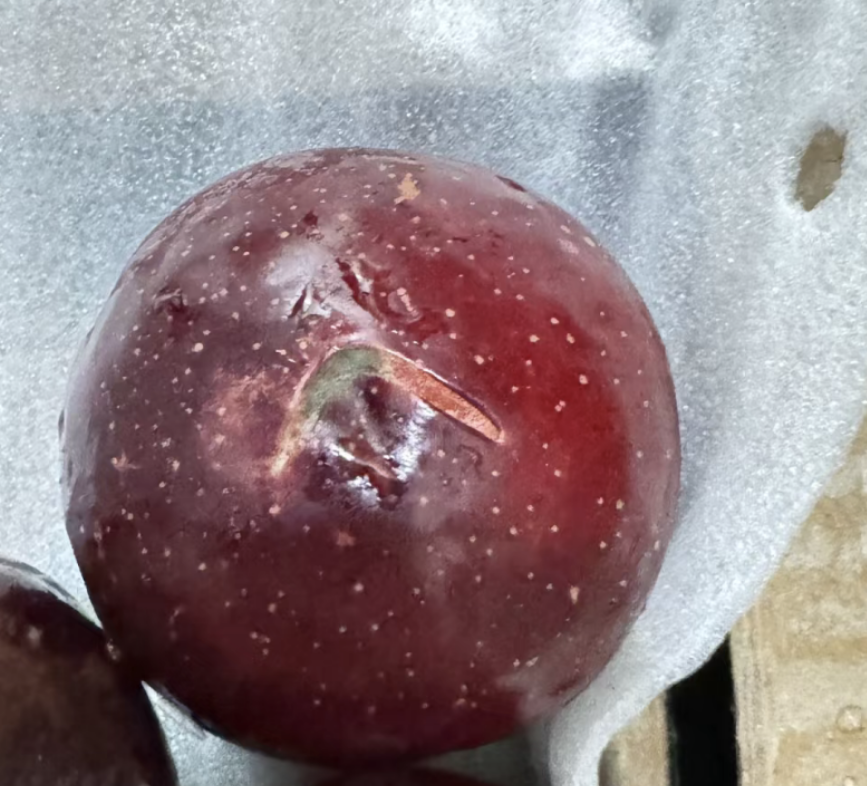plum_C: (61, 141, 684, 767)
